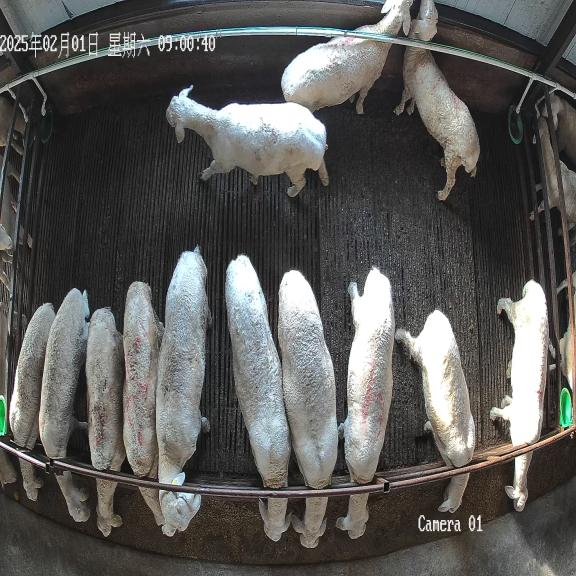eating: (225, 254, 291, 541), (278, 270, 338, 548), (335, 266, 395, 538), (396, 310, 475, 513), (490, 280, 549, 511), (39, 288, 90, 522), (123, 281, 164, 525), (86, 308, 126, 537), (9, 303, 55, 501)
stand: (166, 86, 328, 196), (394, 0, 480, 200), (156, 246, 211, 536), (281, 0, 413, 114)
